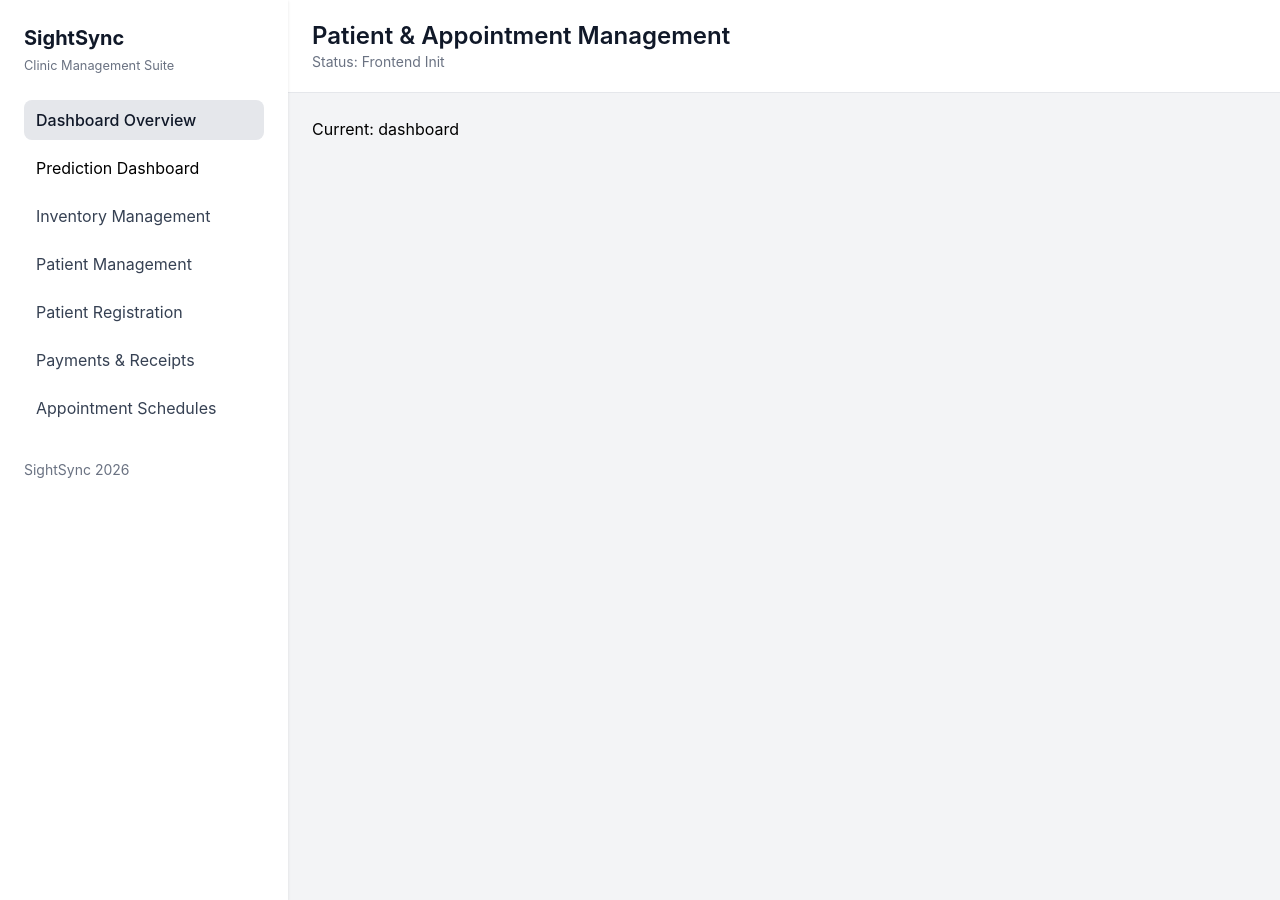
it: AppLayout Structural Framework › should update the active runtime selection state to "appointments" when Appointment Schedules is clicked
Note: Click on the appointment management option
Click the button "Appointment Schedules".
click(144, 408)  # box [24,388,264,428]
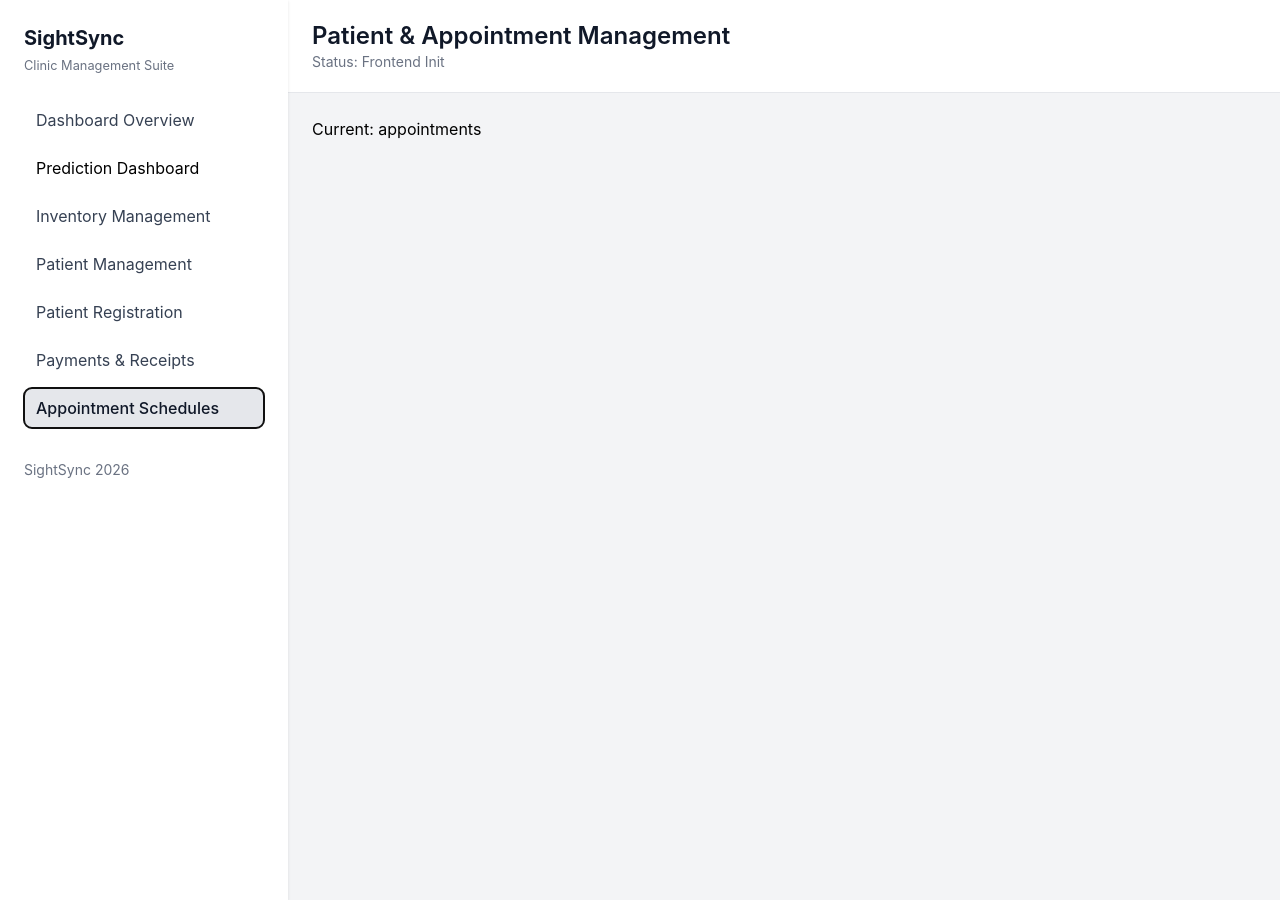
expect the text with test id "view-state" reads "Current: appointments": met, box [312,119,481,139]
